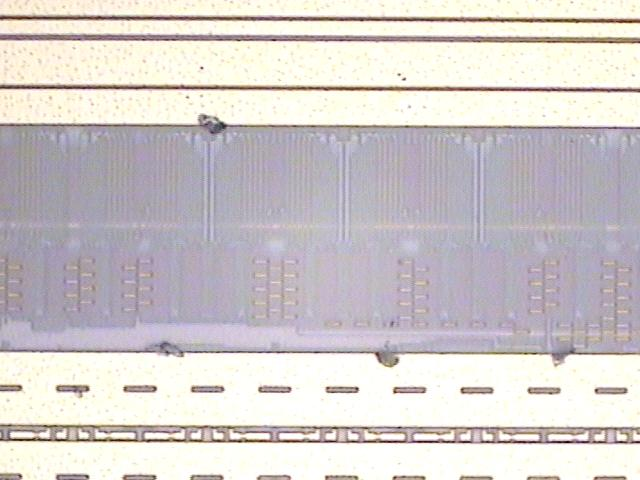PO CONTAMINATION: (149, 163, 579, 377)
